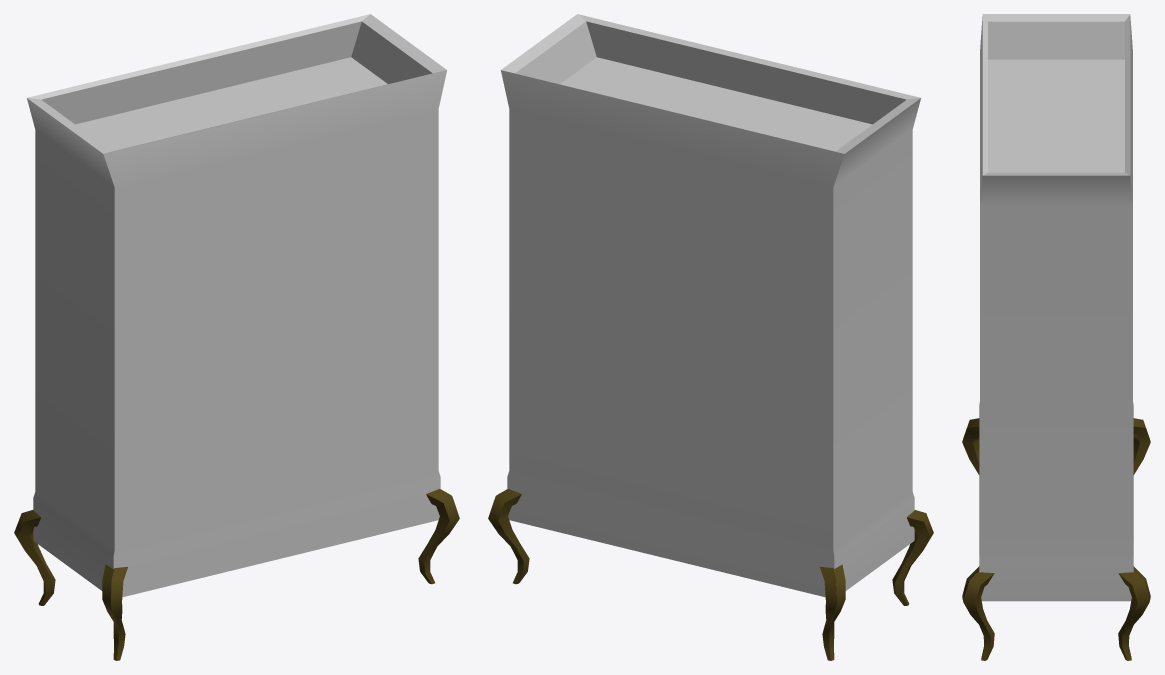
Rendered from 05 armario.obj.
3 renders of one model, left to right at view 1: azimuth 30°, elevation 25°; view 2: azimuth 150°, elevation 25°; view 3: azimuth 270°, elevation 25°, orthographic. The views are drawn at different scales.
Parts seen in each view (by area): view 1: pCube1, sweep2; view 2: pCube1, sweep2; view 3: pCube1, sweep2.
Part boxes in pixels (<box>): pCube1: <box>27,14,447,597</box>; sweep2: <box>14,489,459,660</box>; pCube1: <box>500,14,920,597</box>; sweep2: <box>488,489,933,660</box>; pCube1: <box>979,14,1133,601</box>; sweep2: <box>962,418,1150,660</box>.
Size of the model in its own units: 107 by 147 by 51.14.
